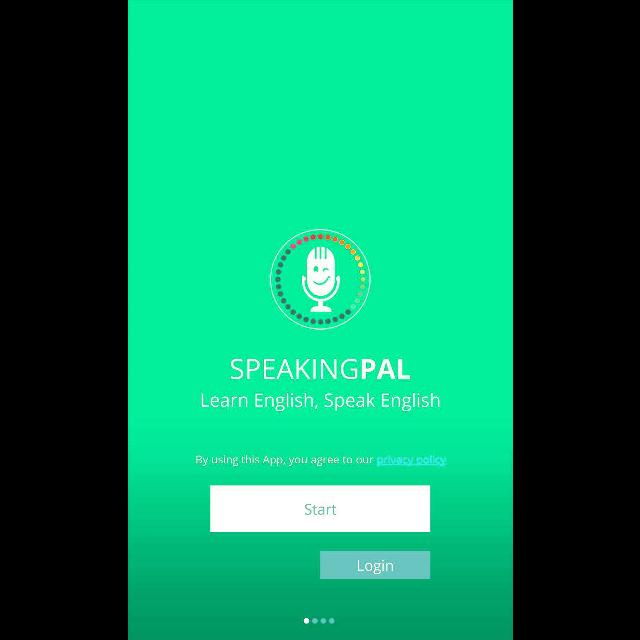image: (268, 228, 370, 330)
pageindicator: (302, 618, 334, 624)
text: (200, 392, 440, 412), (229, 358, 411, 380), (195, 454, 447, 468)
textbutton: (210, 486, 430, 532), (320, 551, 430, 579)
